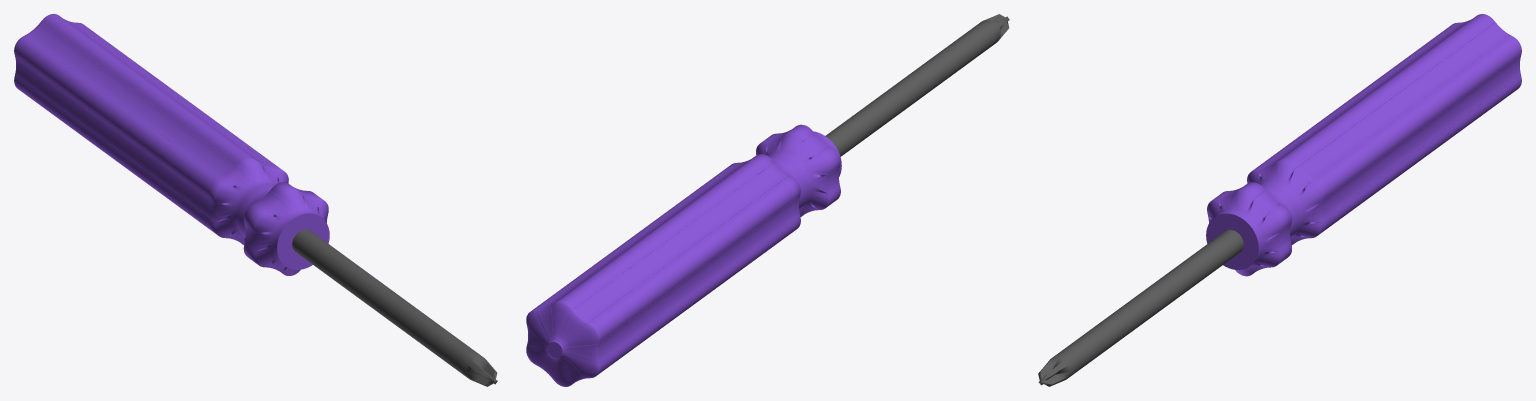
The model's file is gaizhui.FBX.
The picture shows the model from 3 angles, left to right: view 1: azimuth 30°, elevation 25°; view 2: azimuth 150°, elevation 25°; view 3: azimuth 330°, elevation 25°; orthographic projection.
Parts seen in each view (by area): view 1: Loft05; view 2: Loft05; view 3: Loft05.
Boxes of the visible parts, x1,y1,x2,y2 form: Loft05: (14, 14, 497, 386); Loft05: (526, 14, 1009, 386); Loft05: (1038, 14, 1521, 386).
Size of the model in its own units: 1.96 by 2.16 by 20.83.
